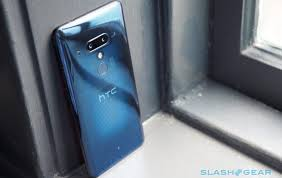htc: (44, 1, 149, 177)
